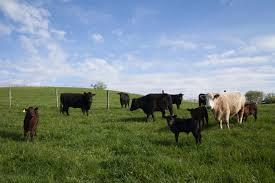cow: (200, 90, 247, 130), (131, 93, 174, 123), (162, 114, 203, 145), (61, 92, 96, 118), (22, 106, 39, 143), (187, 107, 209, 127), (242, 102, 259, 122), (117, 91, 130, 109)
